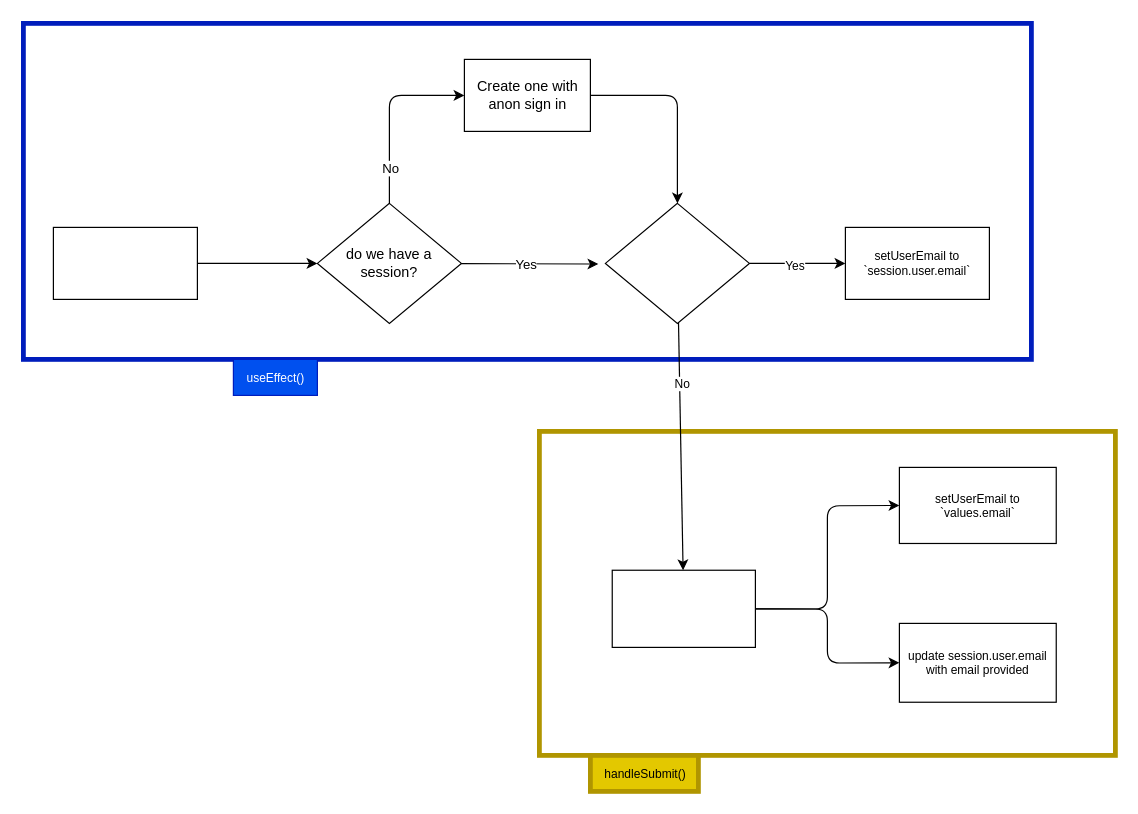
Image size: 1138x814. Some labels were removed from this diagram. Each missing label, with the centre of its shape:
capture it from email submission form: point 683,608
does session user have an email?: point 676,262
getSession(): point 124,262
